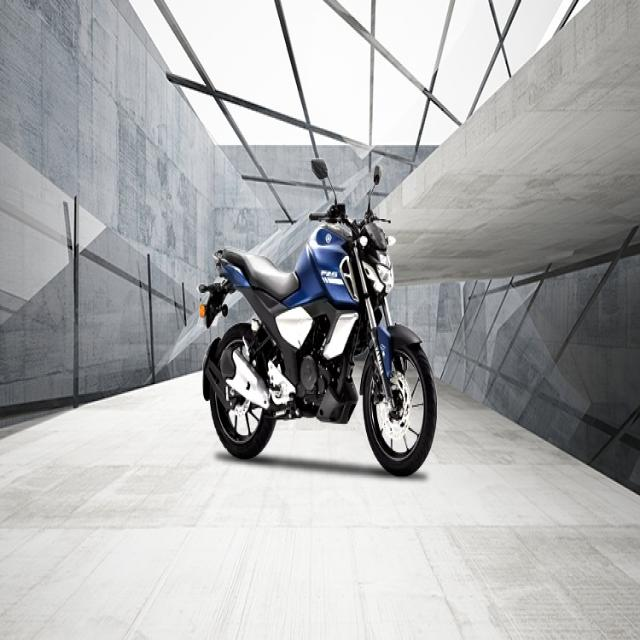bike: (198, 156, 438, 476)
